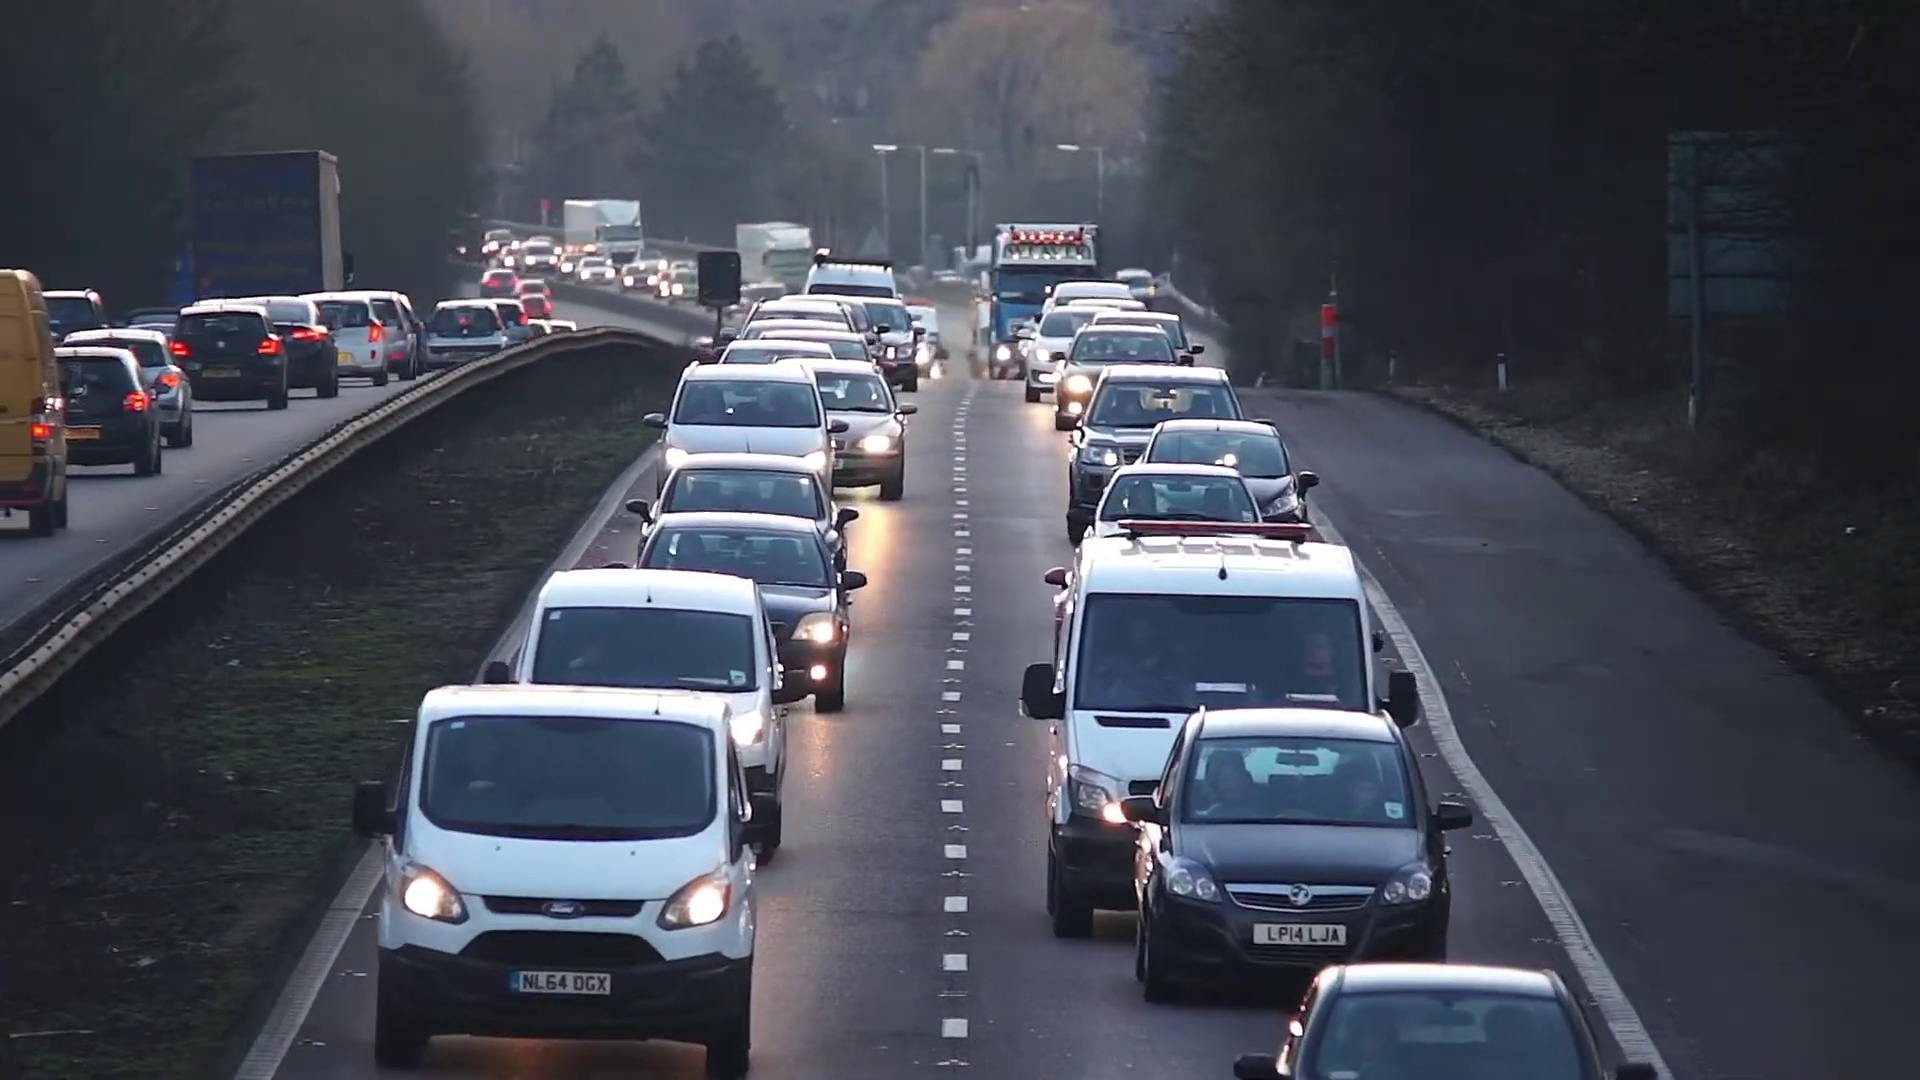license_plate: (1248, 920, 1354, 949), (515, 969, 613, 999)
